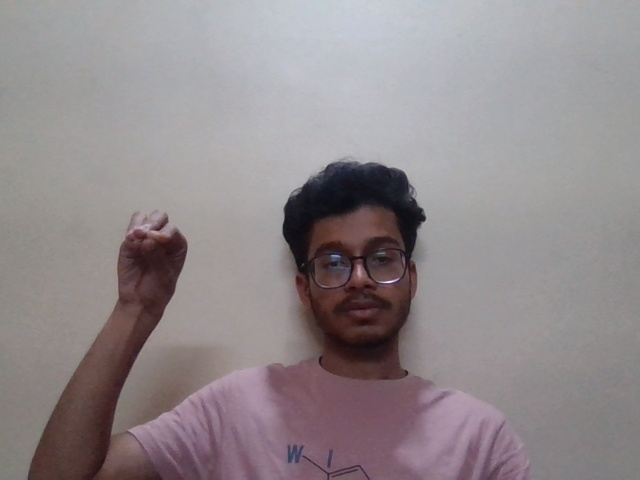talk: (88, 202, 221, 311)
